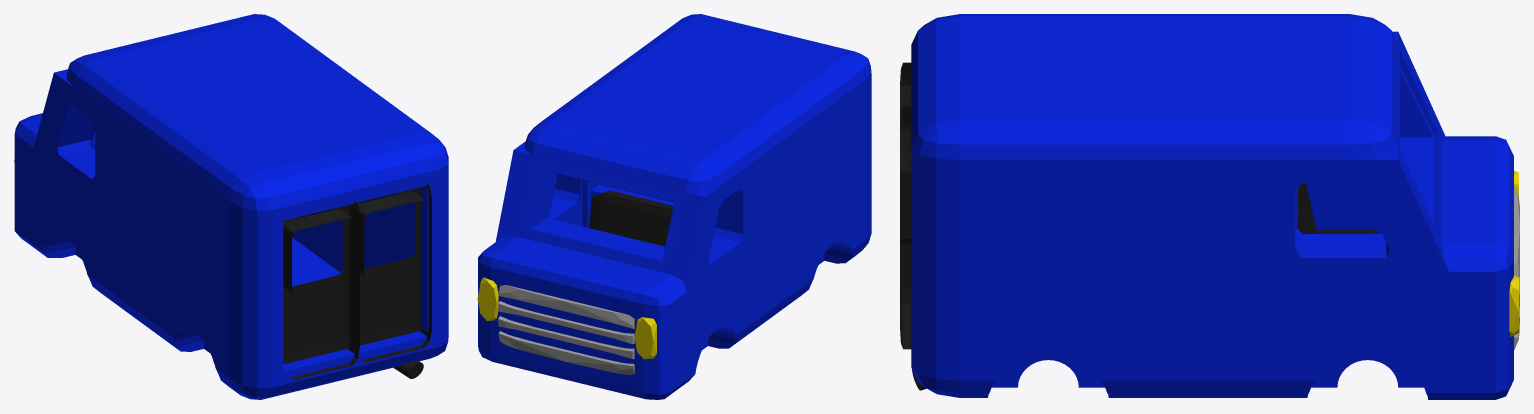
Rendered from WILSON VAN.fbx.
3 renders of one model, left to right at view 1: azimuth 30°, elevation 25°; view 2: azimuth 150°, elevation 25°; view 3: azimuth 270°, elevation 25°, orthographic. The views are drawn at different scales.
Parts seen in each view (by area): view 1: Cube.003_Cube.006, Cube.009_Cube.002; view 2: Cube.003_Cube.006, Cube.006_Cube.016, Cube.004_Cube.010, Cube_Cube.020, Cube.007_Cube.021; view 3: Cube.003_Cube.006, Cube.009_Cube.002, Cube.004_Cube.010, Cube.006_Cube.016, Cube.007_Cube.021.
Part boxes in pixels (<box>): Cube.003_Cube.006: <box>14,14,448,399</box>; Cube.009_Cube.002: <box>283,183,431,380</box>; Cube.003_Cube.006: <box>478,14,871,399</box>; Cube.006_Cube.016: <box>498,285,634,374</box>; Cube.004_Cube.010: <box>589,190,673,246</box>; Cube_Cube.020: <box>634,317,656,359</box>; Cube.007_Cube.021: <box>477,277,498,320</box>; Cube.003_Cube.006: <box>911,14,1513,399</box>; Cube.009_Cube.002: <box>900,62,911,349</box>; Cube.004_Cube.010: <box>1297,182,1316,233</box>; Cube.006_Cube.016: <box>1514,186,1519,349</box>; Cube.007_Cube.021: <box>1509,275,1518,336</box>.
Size of the model in its own units: 1000 by 1028 by 2038.
